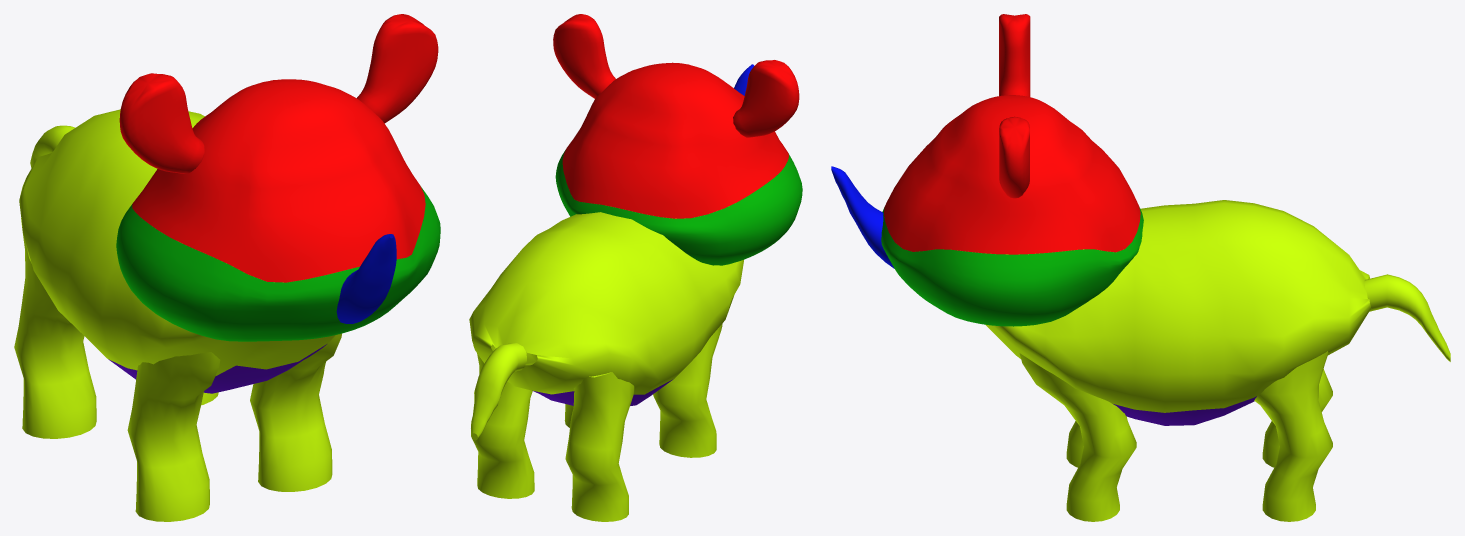
The model's file is LowPolyRhino.fbx.
3 views of the same model, side by side, from view 1: azimuth 30°, elevation 25°; view 2: azimuth 150°, elevation 25°; view 3: azimuth 270°, elevation 25° (orthographic). The views are drawn at different scales.
Visible parts, largest first — view 1: Object, Body, Sphere001, Patte002, Patte001, Patte003, Ears, Ears001, Horn, Object002, Cylinder001; view 2: Body, Object, Sphere001, Patte001, Patte, Patte002, Ears, Ears001, Cylinder001, Object002; view 3: Body, Object, Sphere001, Patte, Patte003, Ears, Cylinder001, Ears001, Horn, Object002, Patte001.
Part boxes in pixels (bbox=[...]): Object: bbox=[132, 79, 425, 282]; Body: bbox=[19, 109, 335, 376]; Sphere001: bbox=[116, 187, 440, 341]; Patte002: bbox=[127, 352, 220, 521]; Patte001: bbox=[14, 218, 96, 438]; Patte003: bbox=[250, 333, 341, 491]; Ears: bbox=[119, 73, 204, 173]; Ears001: bbox=[357, 14, 438, 123]; Horn: bbox=[336, 234, 396, 323]; Object002: bbox=[108, 344, 326, 393]; Cylinder001: bbox=[30, 125, 74, 168]; Body: bbox=[469, 212, 743, 394]; Object: bbox=[562, 62, 788, 218]; Sphere001: bbox=[555, 149, 802, 265]; Patte001: bbox=[565, 372, 634, 521]; Patte: bbox=[471, 353, 534, 498]; Patte002: bbox=[653, 323, 722, 457]; Ears: bbox=[733, 60, 799, 137]; Ears001: bbox=[553, 14, 615, 98]; Cylinder001: bbox=[471, 343, 526, 440]; Object002: bbox=[532, 379, 673, 405]; Body: bbox=[985, 200, 1371, 412]; Object: bbox=[884, 95, 1140, 254]; Sphere001: bbox=[881, 207, 1143, 326]; Patte: bbox=[1254, 351, 1332, 521]; Patte003: bbox=[1019, 353, 1136, 521]; Ears: bbox=[999, 14, 1030, 96]; Cylinder001: bbox=[1364, 274, 1450, 361]; Ears001: bbox=[999, 116, 1029, 198]; Horn: bbox=[831, 166, 894, 268]; Object002: bbox=[1113, 396, 1256, 425]; Patte001: bbox=[1262, 369, 1332, 467].
Size of the model in its own units: 122 by 176 by 240.
